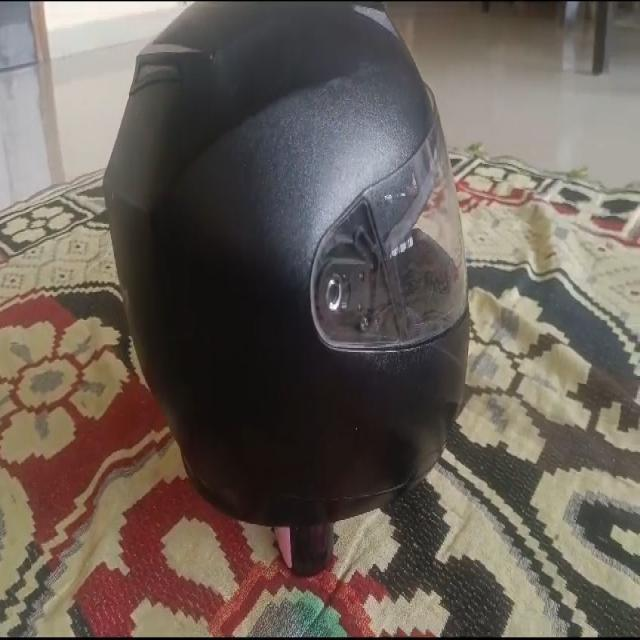Helmet: (104, 4, 469, 574)
